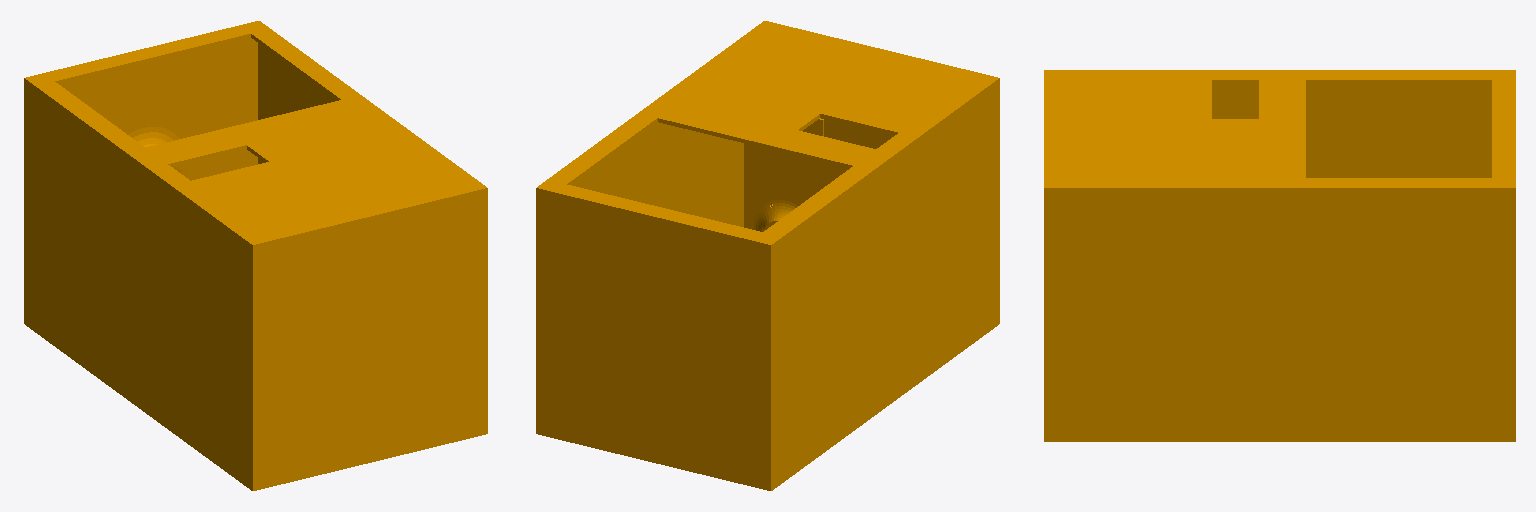
The robot description file, URDF, robot "machine":
<robot name="machine">
  <link name="machine_link">
    <visual>
      <geometry>
        <mesh filename="package://station/meshes/machine.stl" scale="1 1 1"/>
      </geometry>
    </visual>
    <collision>
      <geometry>
        <mesh filename="package://station/meshes/machine.stl" scale="1 1 1"/>
      </geometry>
    </collision>
    <inertial>
      <mass value="1.0"/>
      <inertia ixx="0.01" ixy="0.0" ixz="0.0"
               iyy="0.01" iyz="0.0"
               izz="0.01"/>
    </inertial>
  </link>

  <gazebo reference="machine_link">
    <static>true</static>
  </gazebo>
</robot>

--- What the picture shows (computed from the rendered views, not written in the file) ---
The picture shows the robot from 3 angles, left to right: view 1: azimuth 30°, elevation 25°; view 2: azimuth 150°, elevation 25°; view 3: azimuth 270°, elevation 25°; orthographic projection.
Model machine with 1 links and 0 joints (none), rooted at machine_link, posed every joint at zero.
Links seen in each view (by area): view 1: machine_link; view 2: machine_link; view 3: machine_link.
Boxes of the visible links, <box> form: machine_link: <box>24,21,487,490</box>; machine_link: <box>536,21,999,490</box>; machine_link: <box>1044,70,1515,441</box>.
Size in the robot's own frame: 1.2 by 2.02 by 1.2 metres.
Meshes: 1 distinct files referenced, 1 mesh visuals loaded (1 binary STL).